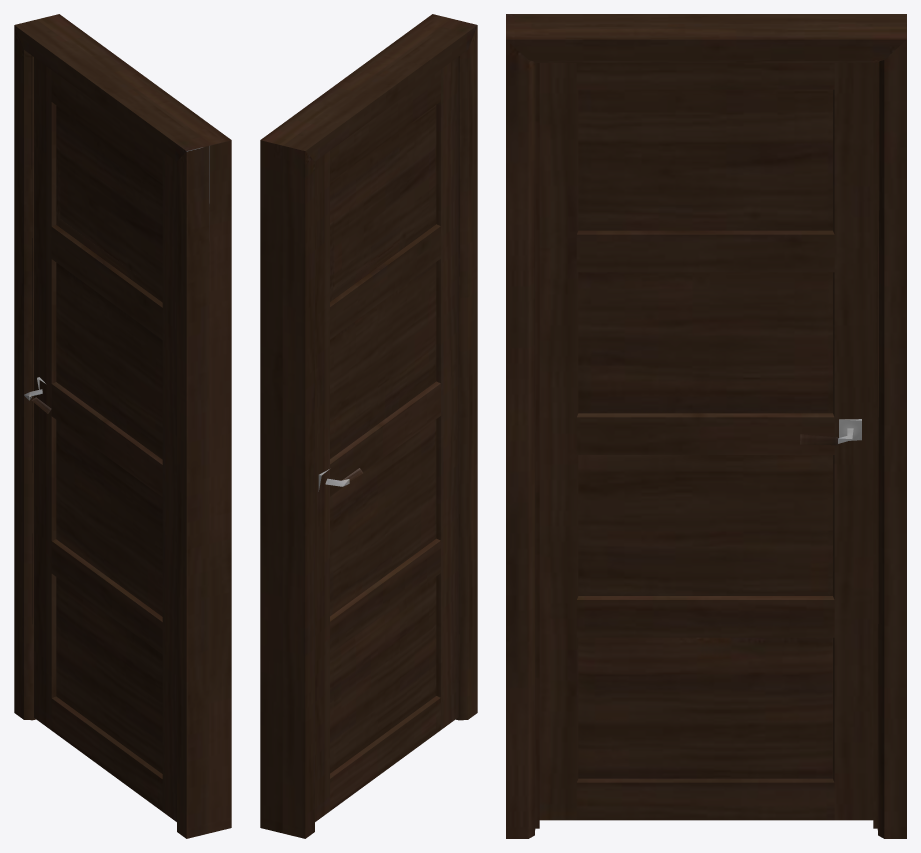
File: Door0015.obj
3 views of the same model, side by side, from view 1: azimuth 30°, elevation 25°; view 2: azimuth 150°, elevation 25°; view 3: azimuth 270°, elevation 25° (orthographic). The views are drawn at different scales.
Size of the model in its own units: 0.193 by 2.12 by 0.964.
1 material, 1 textured.
